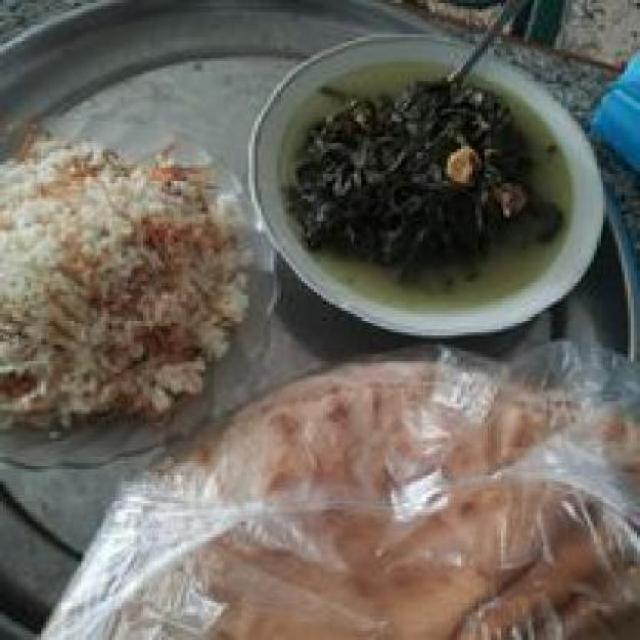molokhia: (270, 55, 572, 320)
